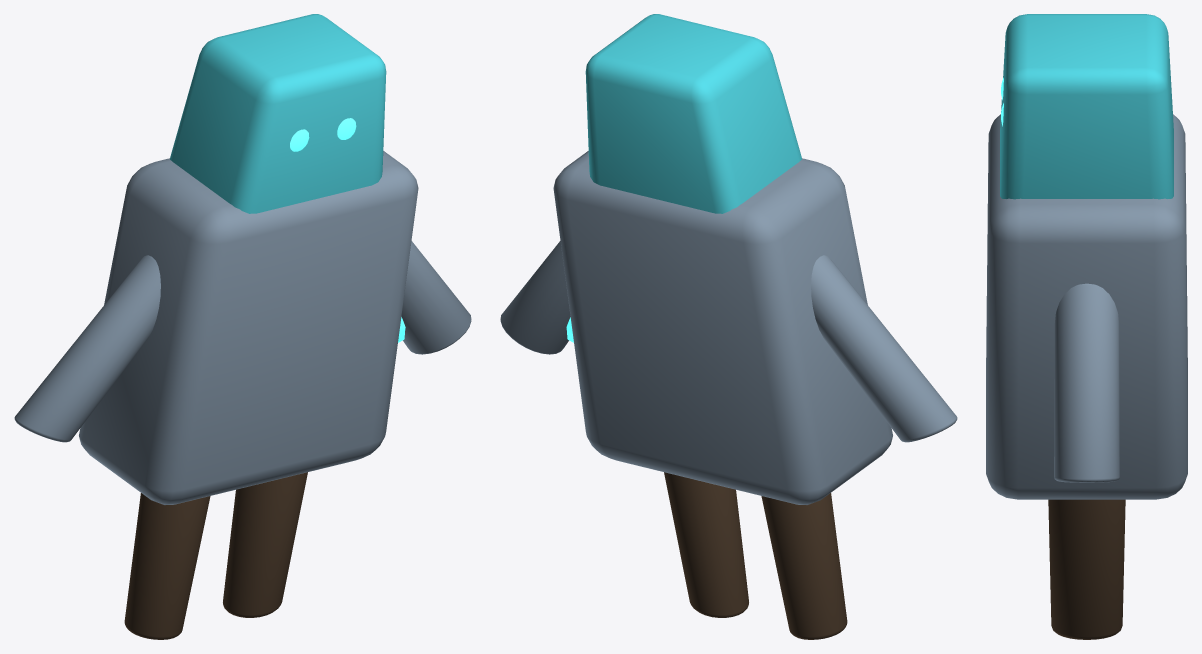
File: construct_v7.glb
The picture shows the model from 3 angles, left to right: view 1: azimuth 30°, elevation 25°; view 2: azimuth 150°, elevation 25°; view 3: azimuth 270°, elevation 25°; orthographic projection. The views are drawn at different scales.
Visible parts, largest first — view 1: BODY_PRIMARY, HEAD_ACCENT, ARM_L_PRIMARY, LEG_L_SECONDARY, LEG_R_SECONDARY, ARM_R_PRIMARY; view 2: BODY_PRIMARY, HEAD_ACCENT, ARM_L_PRIMARY, LEG_L_SECONDARY, LEG_R_SECONDARY, ARM_R_PRIMARY; view 3: BODY_PRIMARY, HEAD_ACCENT, ARM_R_PRIMARY, LEG_R_SECONDARY.
Boxes of the visible parts, bbox=[...] form: BODY_PRIMARY: bbox=[79, 151, 418, 504]; HEAD_ACCENT: bbox=[170, 14, 386, 213]; ARM_L_PRIMARY: bbox=[14, 255, 160, 442]; LEG_L_SECONDARY: bbox=[124, 493, 210, 639]; LEG_R_SECONDARY: bbox=[223, 472, 307, 617]; ARM_R_PRIMARY: bbox=[401, 241, 471, 354]; BODY_PRIMARY: bbox=[553, 151, 892, 504]; HEAD_ACCENT: bbox=[585, 14, 801, 213]; ARM_L_PRIMARY: bbox=[811, 255, 957, 442]; LEG_L_SECONDARY: bbox=[761, 493, 847, 639]; LEG_R_SECONDARY: bbox=[664, 472, 748, 617]; ARM_R_PRIMARY: bbox=[500, 241, 570, 354]; BODY_PRIMARY: bbox=[986, 114, 1187, 499]; HEAD_ACCENT: bbox=[1000, 14, 1173, 199]; ARM_R_PRIMARY: bbox=[1054, 283, 1119, 482]; LEG_R_SECONDARY: bbox=[1048, 499, 1125, 639].
Bounding box in the file's own units: 2.31 × 2.7 × 0.803.
